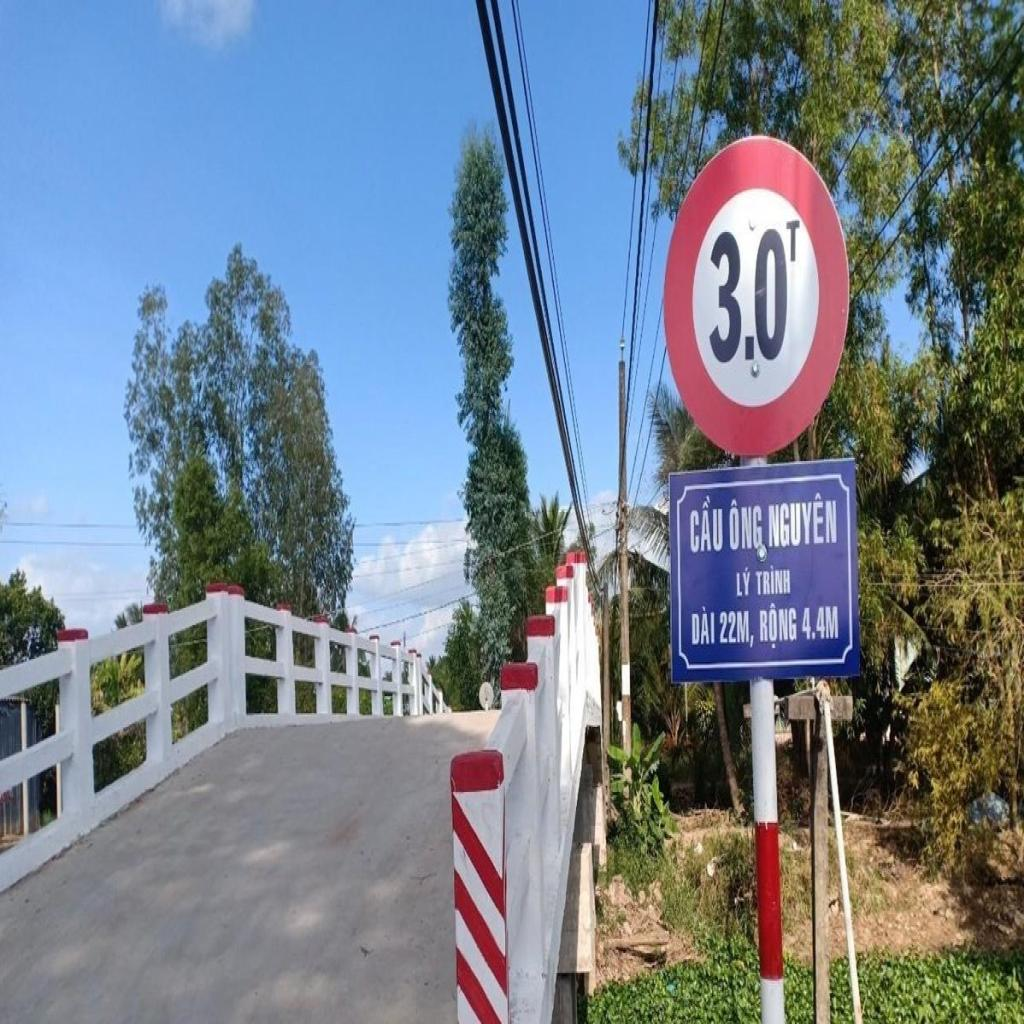text: (709, 214, 804, 374), (770, 492, 840, 552), (729, 496, 768, 556), (689, 495, 726, 557), (759, 602, 800, 654), (720, 609, 757, 653), (756, 563, 796, 600), (692, 603, 718, 650), (738, 566, 754, 600)
